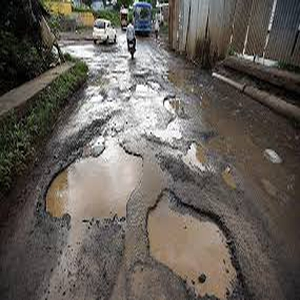pothole: (149, 192, 245, 300), (46, 135, 141, 230), (163, 93, 201, 126)
